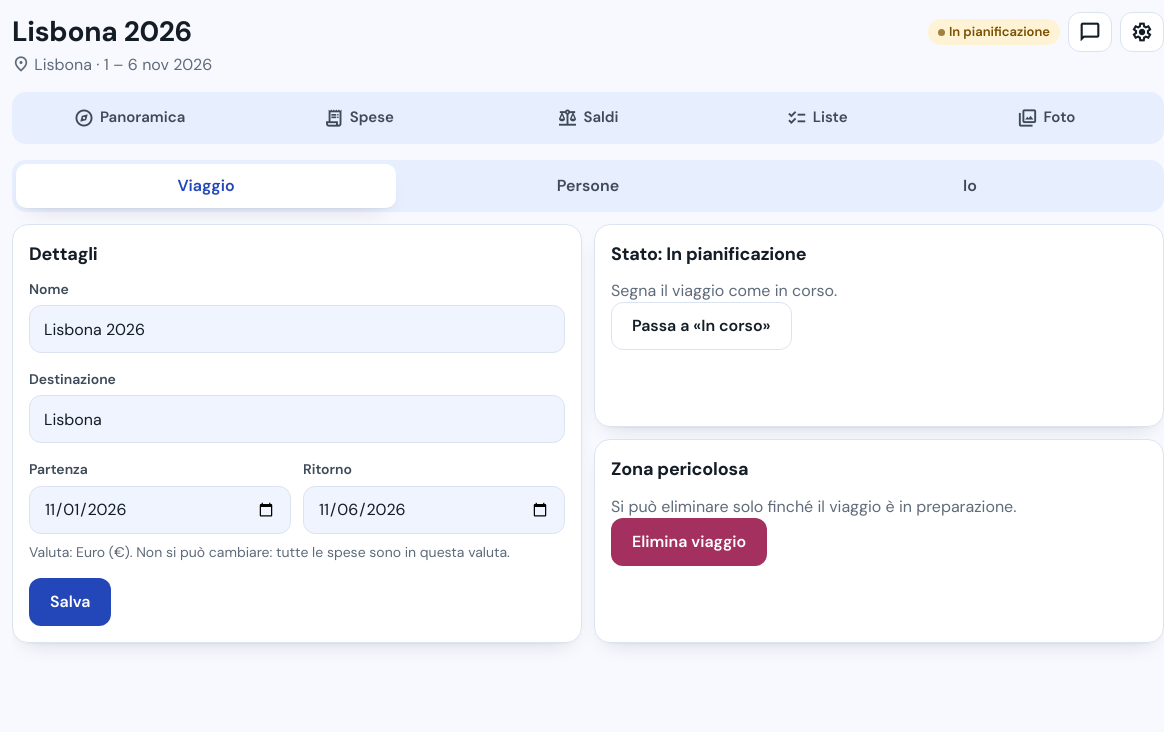
Test: cambiare la destinazione richiede una proposta dall'elenco
Replace the text in the dropdown labelled "Destinazione" with "Braga": {"x": 297, "y": 420} [29,396,565,444]
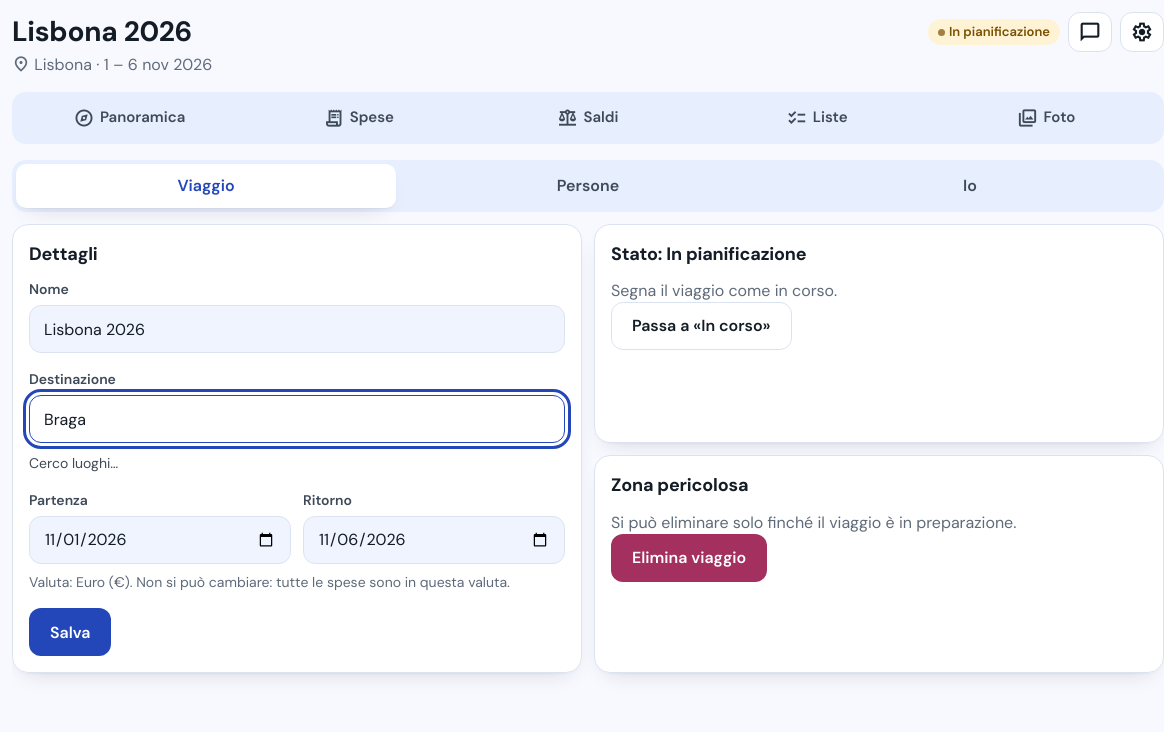
Click the button "Salva": {"x": 70, "y": 632} [29,608,111,656]
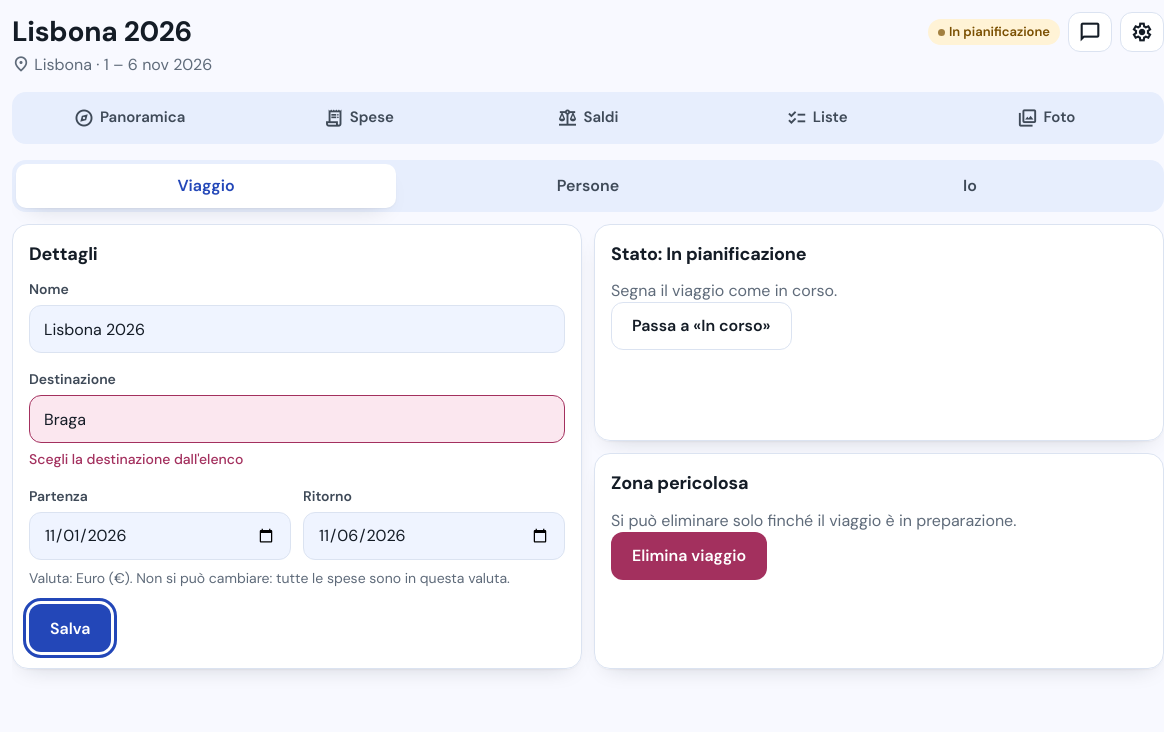
Now the text "Scegli la destinazione dall'elenco" is shown, box [29,450,243,468]
